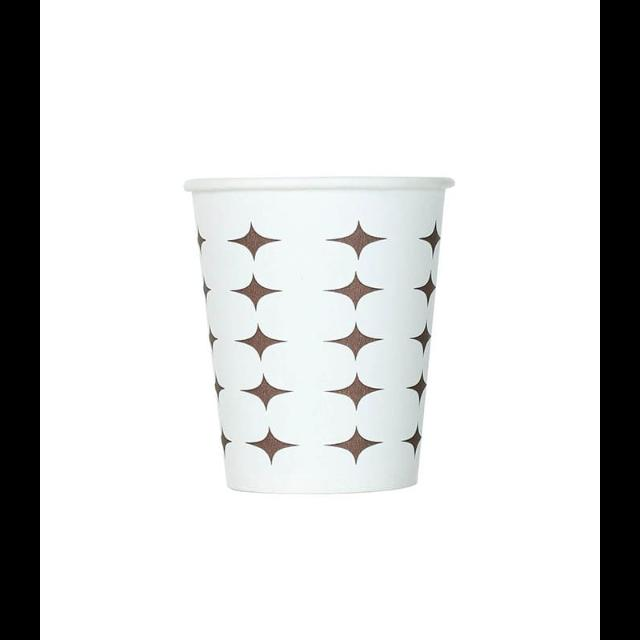trash: (182, 152, 472, 504)
